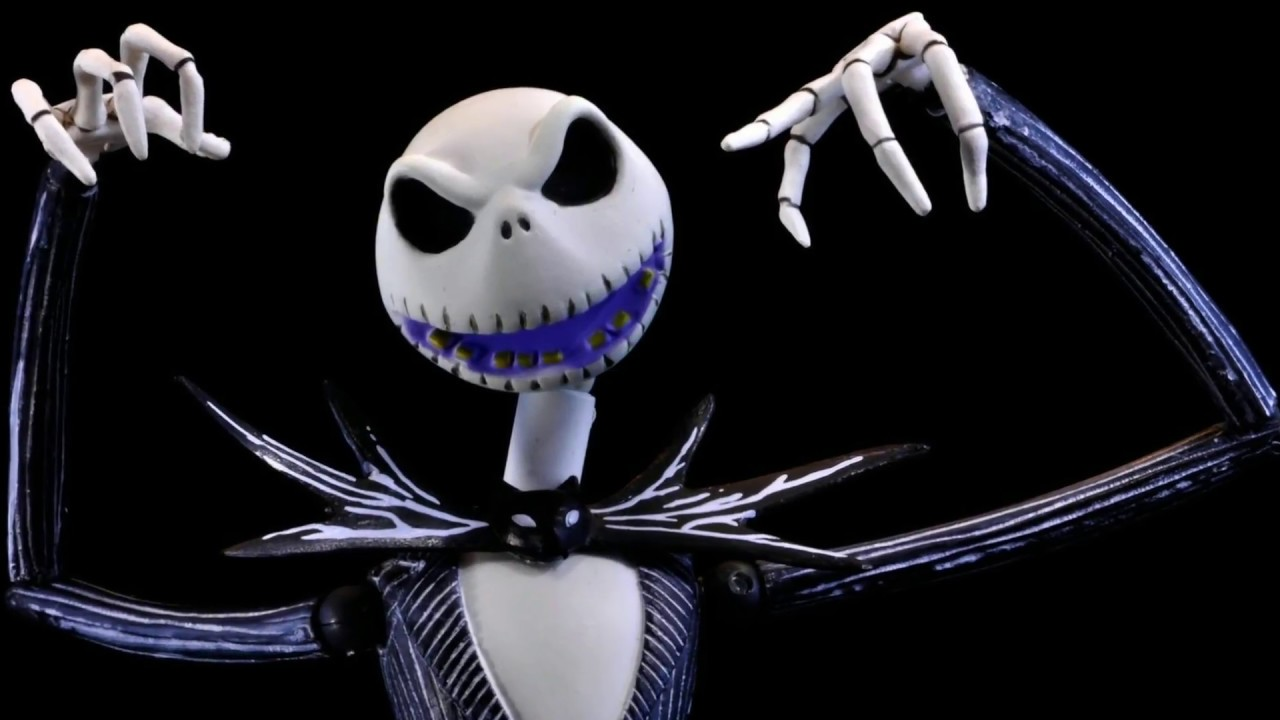Jack Skellington: (1, 10, 1279, 719)
